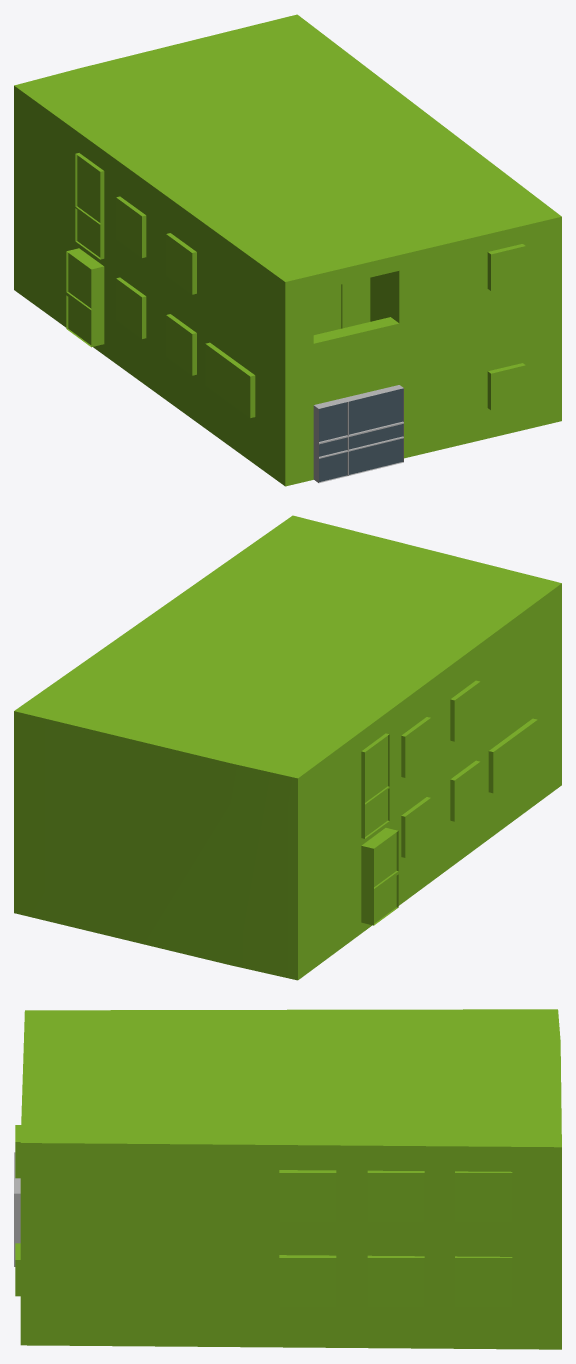
The picture shows the model from 3 angles, top to bottom: view 1: azimuth 30°, elevation 25°; view 2: azimuth 150°, elevation 25°; view 3: azimuth 270°, elevation 25°; orthographic projection.
Parts seen in each view (by area): view 1: A11, Entrance; view 2: A11; view 3: A11, Entrance.
Boxes of the visible parts, x1,y1,x2,y2 form: A11: [14, 14, 561, 486]; Entrance: [313, 385, 403, 483]; A11: [14, 515, 561, 980]; A11: [15, 1009, 561, 1349]; Entrance: [14, 1152, 20, 1266].
Bounding box in the file's own units: 8.42 × 5.5 × 13.49.
